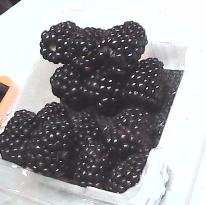berry: (92, 21, 147, 74), (26, 115, 71, 177), (107, 107, 157, 157), (120, 57, 168, 108), (49, 58, 91, 109), (82, 65, 128, 111), (0, 109, 37, 166), (103, 147, 149, 192), (40, 20, 84, 63), (62, 27, 106, 69), (72, 140, 110, 188), (70, 110, 107, 154), (36, 102, 67, 120)
